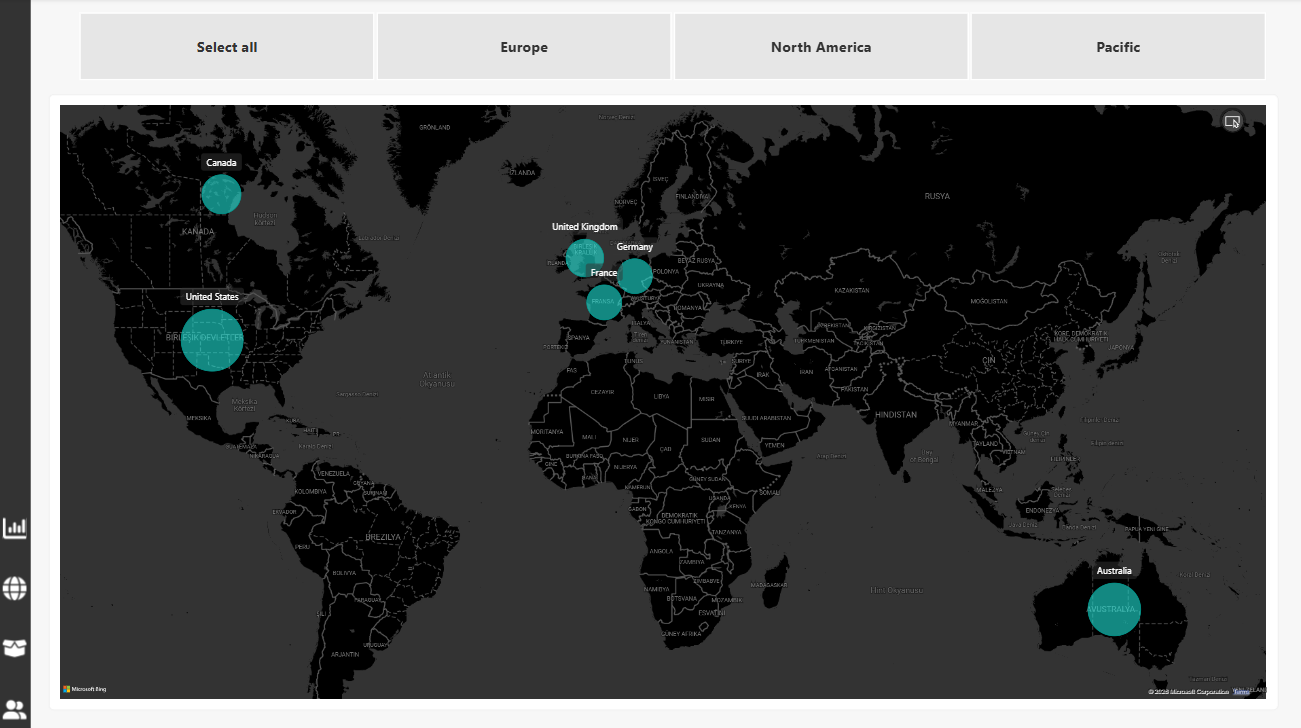

Layout of this report page (visuals, bound fields, positions):
{"tool":"powerbi","page":{"name":"Map","canvas":[1920,1080],"ordinal":1},"visuals":[{"type":"shape","box":[0,0,45.2,1081],"z":0},{"type":"actionButton","box":[0,750,46,64],"z":0,"group":"g1"},{"type":"map","fields":{"Category":["Territory Lookup.Country"],"Size":["Measure Table.Total Orders"]},"box":[72.5,142.5,1810,907.5],"z":1000},{"type":"actionButton","box":[0,838.7,46,64],"z":1000,"group":"g1"},{"type":"slicer","fields":{"Values":["Territory Lookup.Continent"]},"box":[95,17.5,1787.5,105],"z":2000},{"type":"actionButton","box":[0,927.3,46,64],"z":2000,"group":"g1"},{"type":"group","id":"g1","title":"Navigation Buttons","box":[0,750,46,330],"z":3000},{"type":"actionButton","box":[0,1016,46,64],"z":3000,"group":"g1"}]}

Visuals, with their boxes on the page's 1920x1080 design canvas (x1, y1, x2, y2). These are canvas units, not pixel positions in the 1301x728 screenshot, which may show the page scaled, cropped or inside an application window:
shape: rect(0, 0, 45, 1081)
actionButton: rect(0, 750, 46, 814)
map - Territory Lookup.Country x Measure Table.Total Orders: rect(72, 142, 1882, 1050)
actionButton: rect(0, 839, 46, 903)
slicer - Territory Lookup.Continent: rect(95, 18, 1882, 122)
actionButton: rect(0, 927, 46, 991)
"Navigation Buttons" group: rect(0, 750, 46, 1080)
actionButton: rect(0, 1016, 46, 1080)
